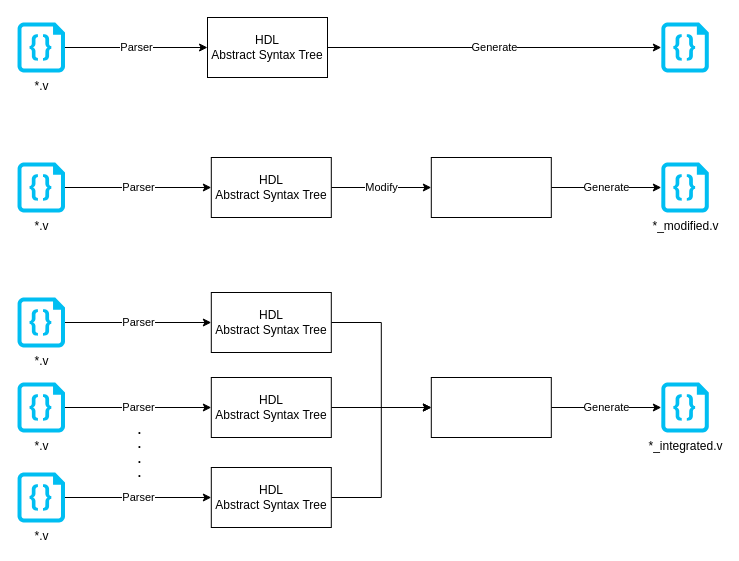
The diagram is 739 pixels wide and 561 high, and some of its shapes have lost their labels. The shapes that lost their labels are listed below. From the top down, each one's centre as x and y in pixels, then its label:
At (684,47): "*_bb.v".
At (490,187): "Modified HDL Abstract Syntax Tree".
At (490,407): "Integrated HDL Abstract Syntax Tree".
